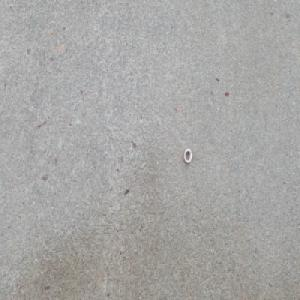Nut: (183, 149, 192, 164)
